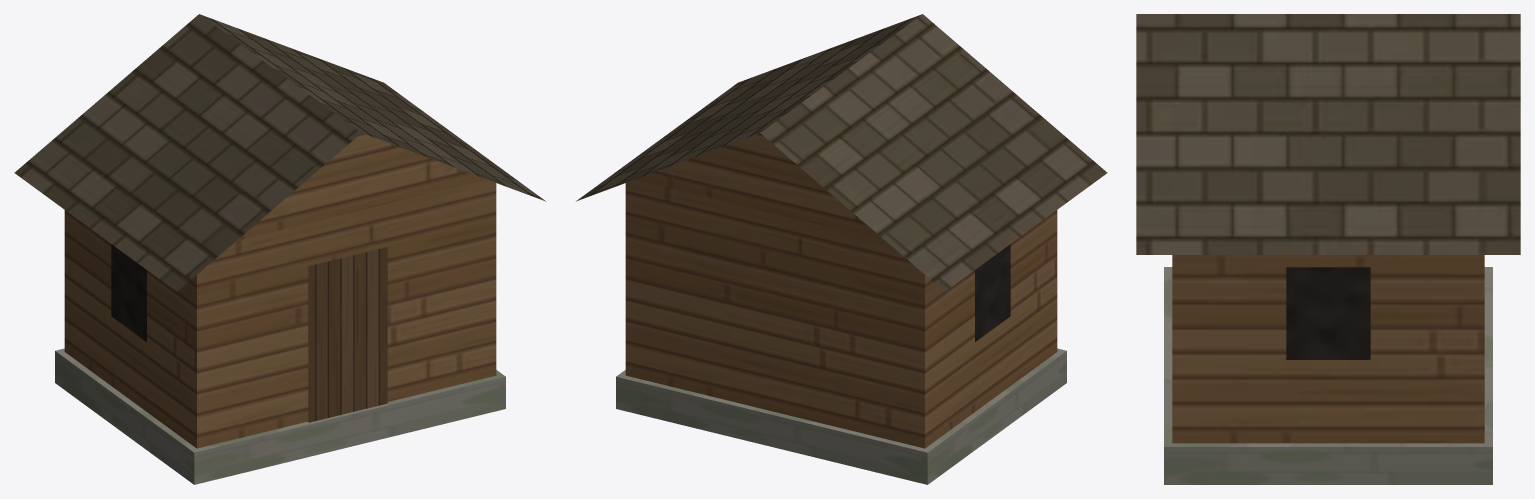
File: ae_forest_wood_small_booth_lod2.glb
The picture shows the model from 3 angles, left to right: view 1: azimuth 30°, elevation 25°; view 2: azimuth 150°, elevation 25°; view 3: azimuth 270°, elevation 25°; orthographic projection. The views are drawn at different scales.
Parts seen in each view (by area): view 1: ae_forest_wood_small_booth_lod2; view 2: ae_forest_wood_small_booth_lod2; view 3: ae_forest_wood_small_booth_lod2.
Part boxes in pixels (x1,y1,x2,y2): ae_forest_wood_small_booth_lod2: [14, 14, 545, 484]; ae_forest_wood_small_booth_lod2: [576, 14, 1107, 484]; ae_forest_wood_small_booth_lod2: [1136, 14, 1520, 484].
Size of the model in its own units: 4.2 by 3.5 by 3.2.
1 material, 1 textured.
